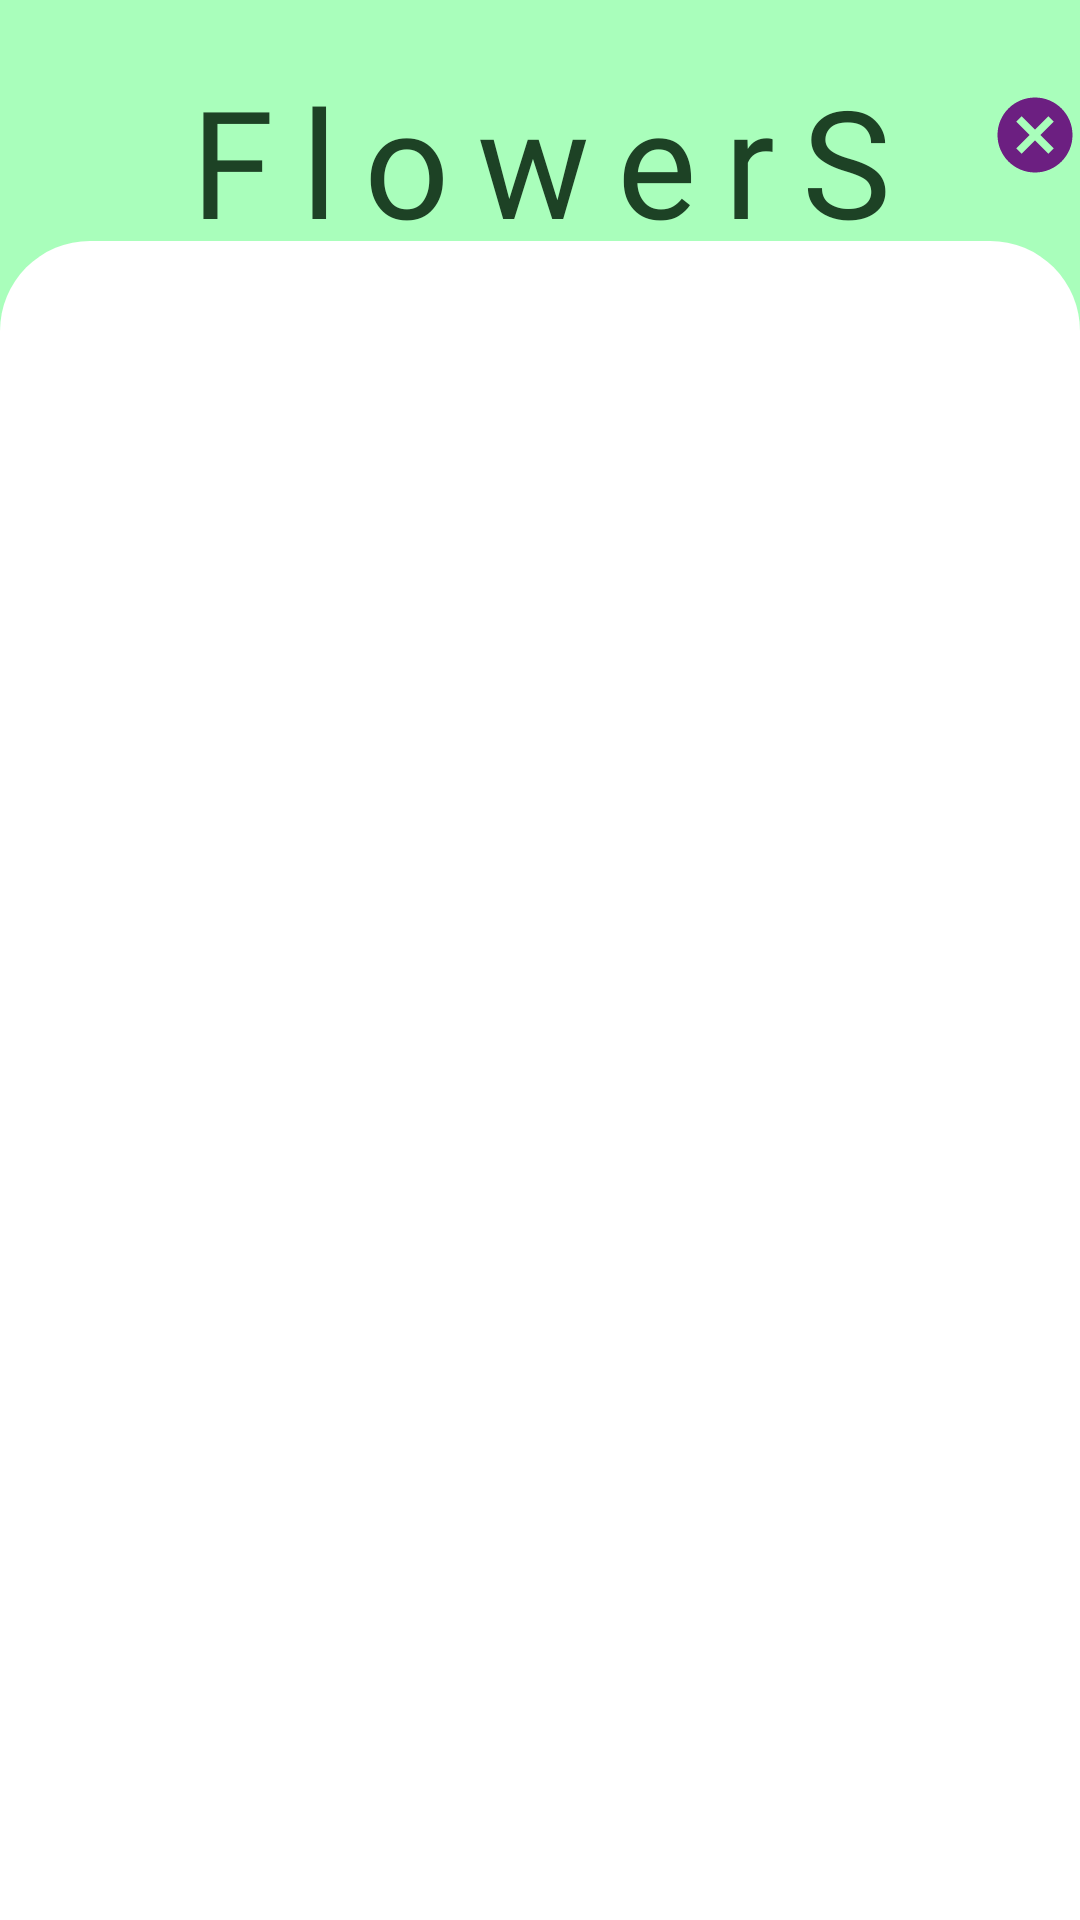

Locate icon controls on the screen. Image size 1080px x 1920px, boxes as (x1, y1, x2, y2).
cancel: (997, 97, 1073, 173)
